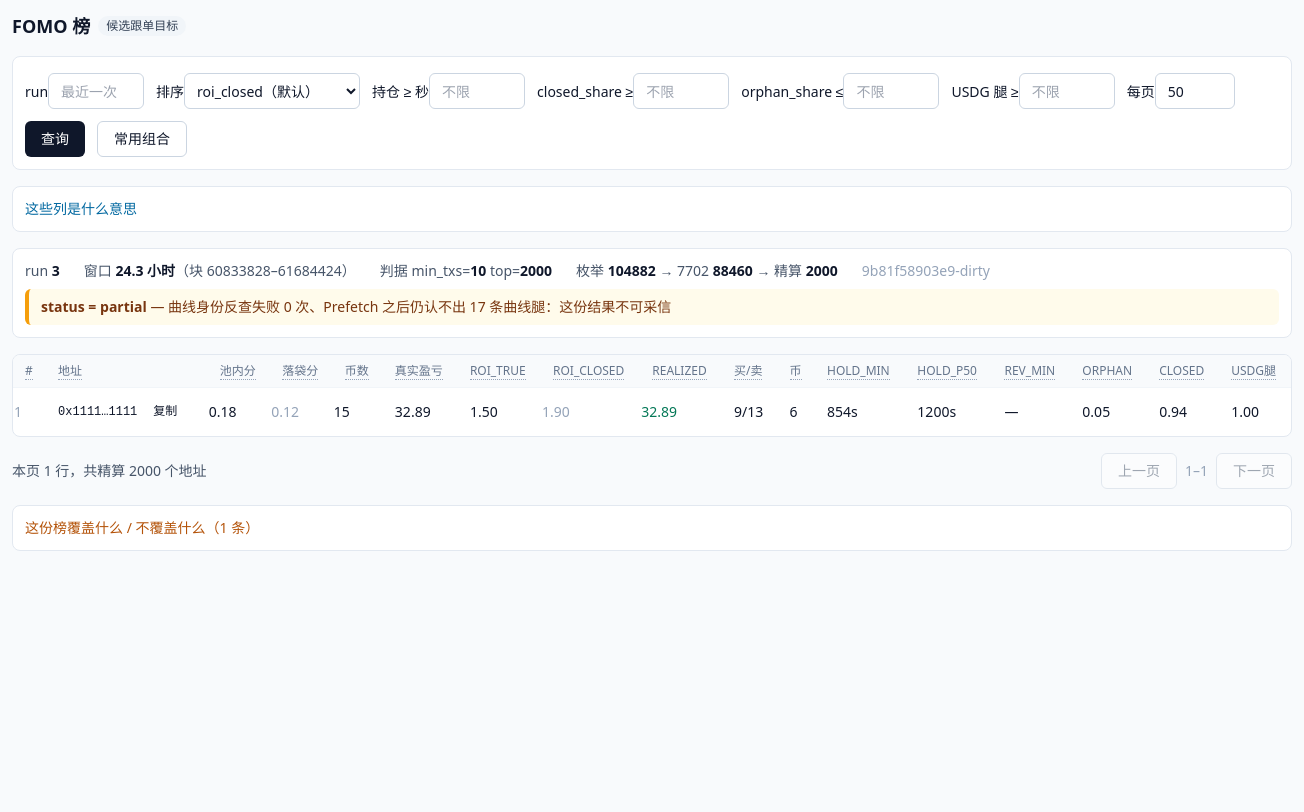
it: 覆盖边界声明可展开（spec §4 的硬要求）
Expected: the text "status = partial" is shown, [41,297,147,316]
Click the button "这份榜覆盖什么 / 不覆盖什么（1 条）" at (142, 528), box [25,518,259,538]
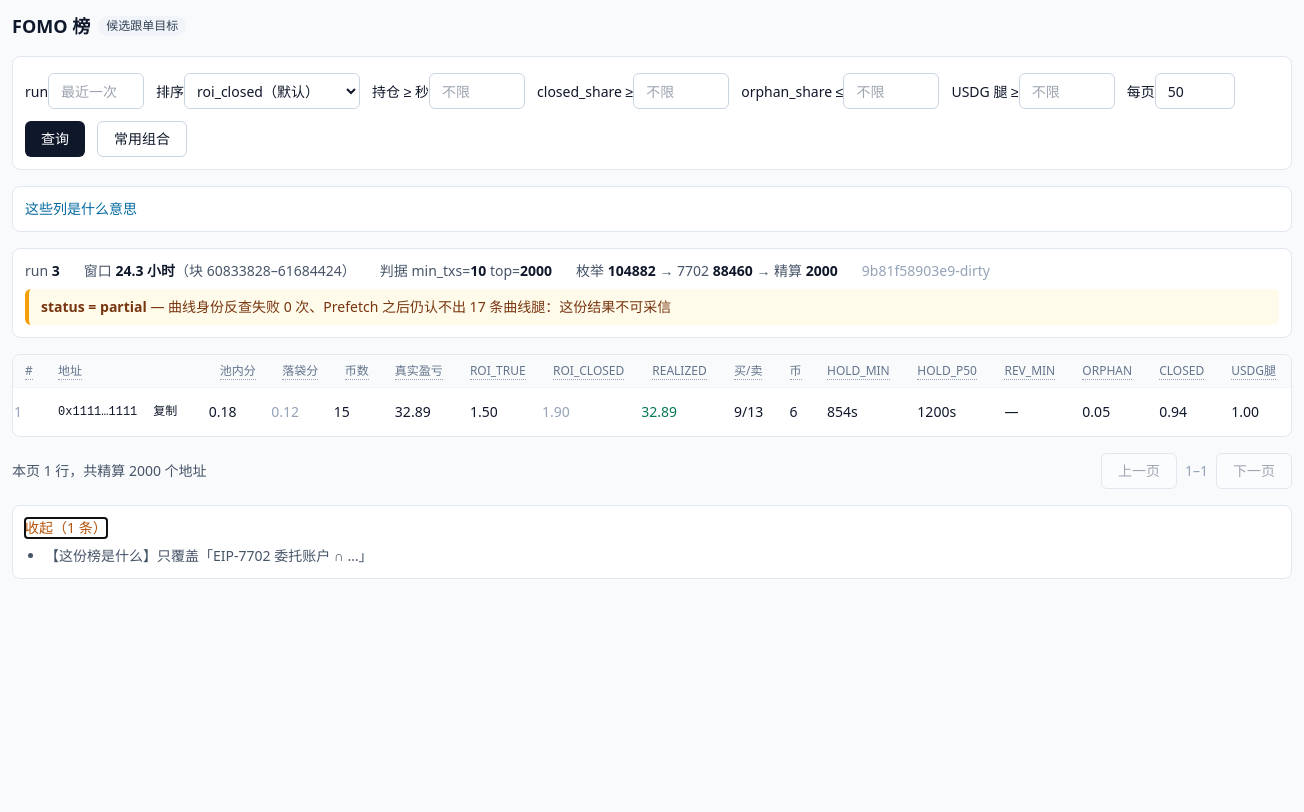
Result: the list item "【这份榜是什么】只覆盖「EIP-7702 委托账户 ∩ …」" is shown at [45,546,373,565]
